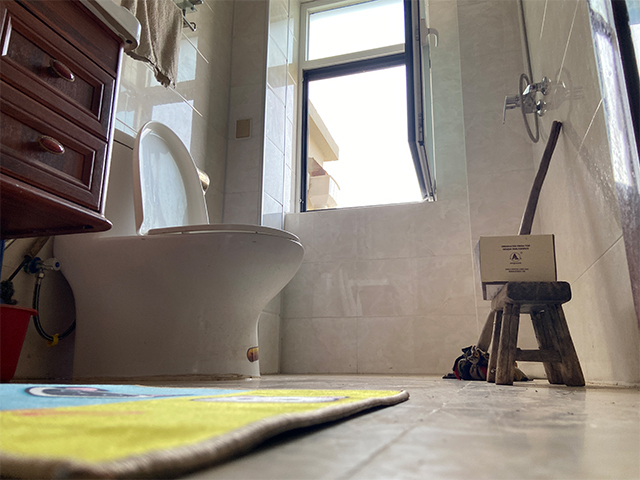carpet: (1, 382, 411, 480)
closestool: (50, 117, 307, 383)
stool: (485, 278, 585, 388)
